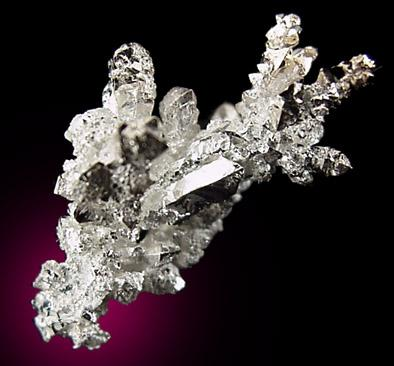silver: (32, 15, 376, 350)
